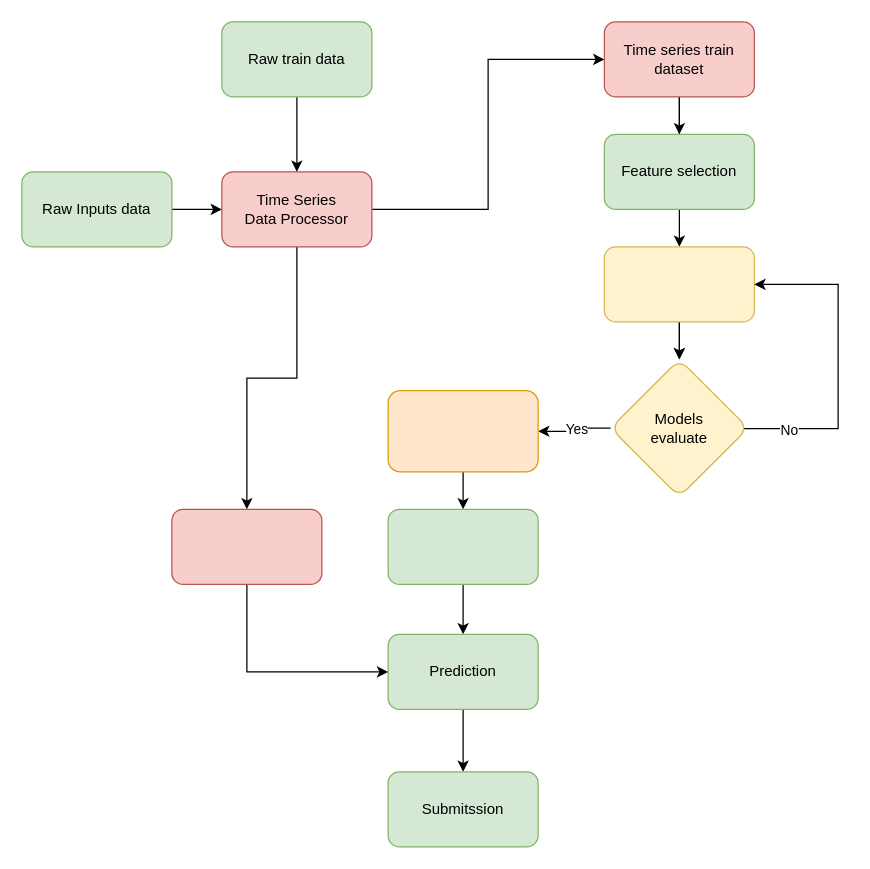
This 870x869 diagram has some shape labels left out. Here are the shapes that lost their labels. From the top down, the box of each, then its label:
(603, 246, 754, 322): Train model
(387, 389, 538, 472): Model's storage
(171, 508, 322, 584): Processed Inputs data
(387, 508, 538, 584): Ensemble Model
